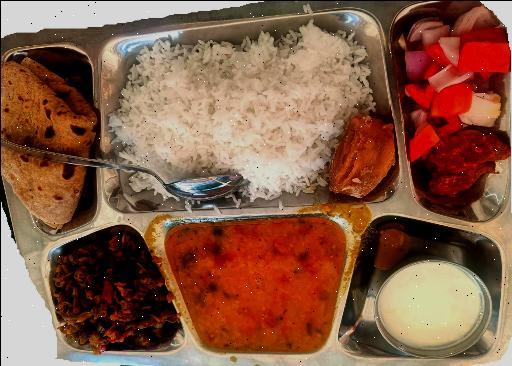Curd: (372, 258, 490, 357)
Dal: (181, 219, 328, 346)
Pickle: (435, 134, 511, 206)
Rice: (112, 30, 372, 198)
Roti: (0, 62, 92, 222)
Salad: (404, 6, 506, 126)
Sweet: (330, 117, 400, 200)
Vegetable: (54, 227, 152, 346)
